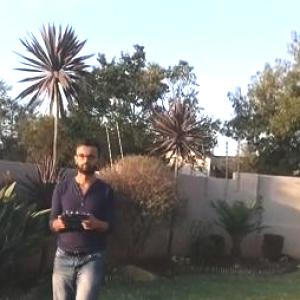follow: (43, 133, 118, 299)
